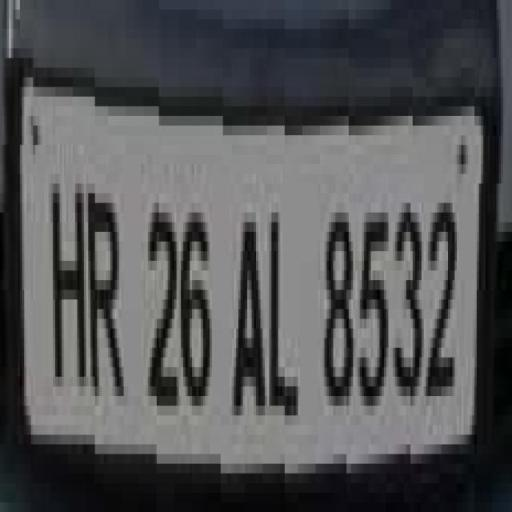number plate: (12, 38, 478, 512)
